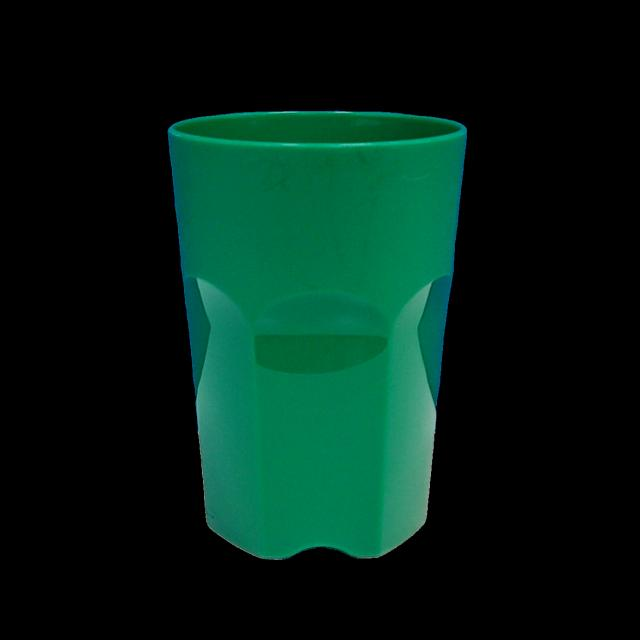Glass: (168, 107, 464, 564)
